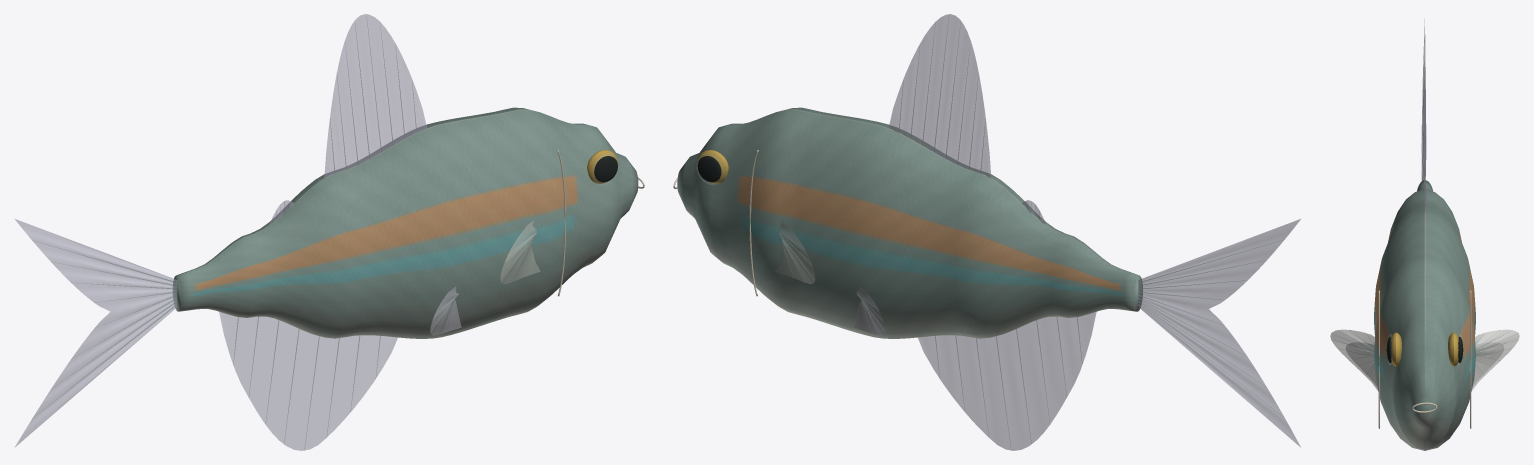
The model's file is congo-mobile.glb.
The picture shows the model from 3 angles, left to right: view 1: azimuth 30°, elevation 25°; view 2: azimuth 150°, elevation 25°; view 3: azimuth 270°, elevation 25°; orthographic projection. The views are drawn at different scales.
Visible parts, largest first — view 1: skin, anal, tail, dorsal, dorsal-ray, pectoral-left, pelvic-left; view 2: skin, anal, tail, dorsal, dorsal-ray, pectoral-left, pelvic-left; view 3: skin, pectoral-left, pelvic-left, operculum, eye-iris--1, tail, dorsal-ray, dorsal, eye-pupil--1.
Part boxes in pixels (x1,y1,x2,y2): skin: [173, 107, 638, 338]; anal: [219, 312, 397, 450]; tail: [14, 219, 177, 447]; dorsal: [269, 14, 426, 224]; dorsal-ray: [32, 14, 536, 450]; pectoral-left: [500, 220, 540, 283]; pelvic-left: [430, 286, 461, 335]; skin: [677, 107, 1142, 338]; anal: [918, 312, 1096, 450]; tail: [1138, 219, 1300, 447]; dorsal: [888, 14, 1045, 224]; dorsal-ray: [779, 14, 1274, 443]; pectoral-left: [775, 221, 815, 283]; pelvic-left: [854, 287, 885, 335]; skin: [1374, 180, 1475, 450]; pectoral-left: [1330, 329, 1519, 390]; pelvic-left: [1346, 342, 1503, 385]; operculum: [1378, 290, 1471, 428]; eye-iris--1: [1391, 332, 1458, 366]; tail: [1421, 19, 1425, 180]; dorsal-ray: [1331, 46, 1518, 372]; dorsal: [1423, 71, 1426, 213]; eye-pupil--1: [1386, 336, 1463, 362].
Bounding box in the file's own units: 0.5972 × 0.3857 × 0.1669.
Materials: 11 (1 with a texture image).
